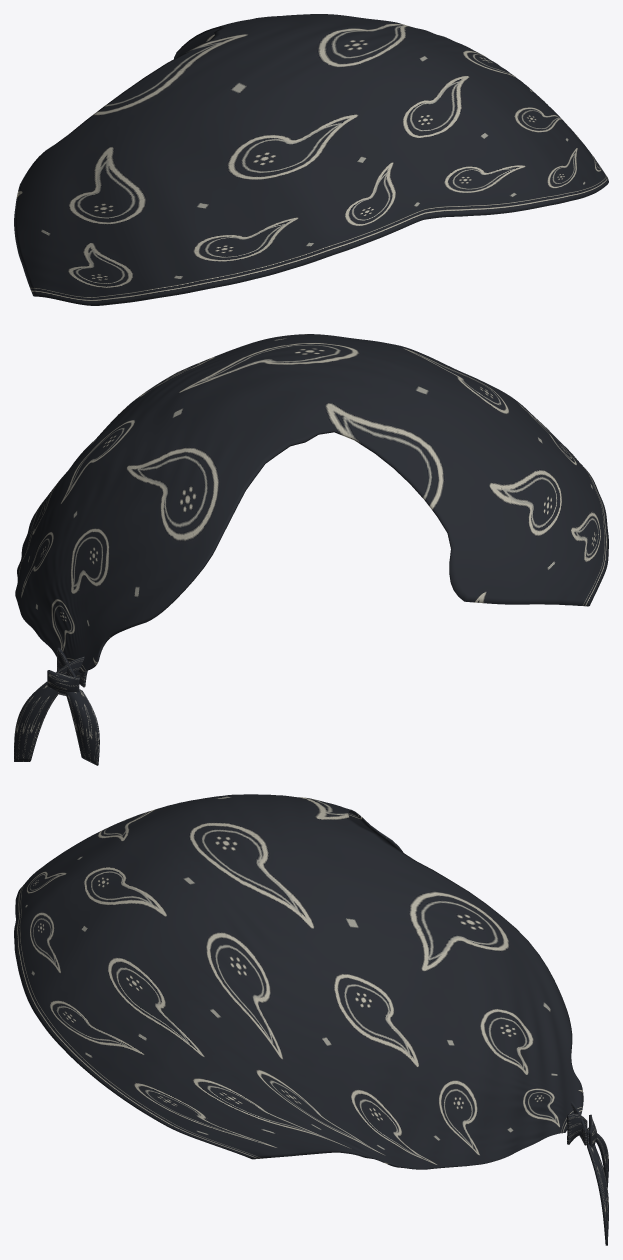
Rendered from Feminine-ponytail-bandana.glb.
3 renders of one model, top to bottom at view 1: azimuth 30°, elevation 25°; view 2: azimuth 150°, elevation 25°; view 3: azimuth 270°, elevation 25°, orthographic. The views are drawn at different scales.
Parts seen in each view (by area): view 1: Bandana / folded crown scarf; view 2: Bandana / folded crown scarf, Bandana / falling tie 1, Bandana / falling tie -1, Bandana / knot cross-fold; view 3: Bandana / folded crown scarf, Bandana / falling tie 1.
Boxes of the visible parts, x1,y1,x2,y2 form: Bandana / folded crown scarf: (14,14,608,305); Bandana / folded crown scarf: (15,334,608,673); Bandana / falling tie 1: (14,681,59,761); Bandana / falling tie -1: (65,689,99,765); Bandana / knot cross-fold: (47,670,79,695); Bandana / folded crown scarf: (14,794,583,1169); Bandana / falling tie 1: (587,1129,608,1245).
Size of the model in its own units: 0.7225 by 0.417 by 0.6592.
1 material, 1 textured.
